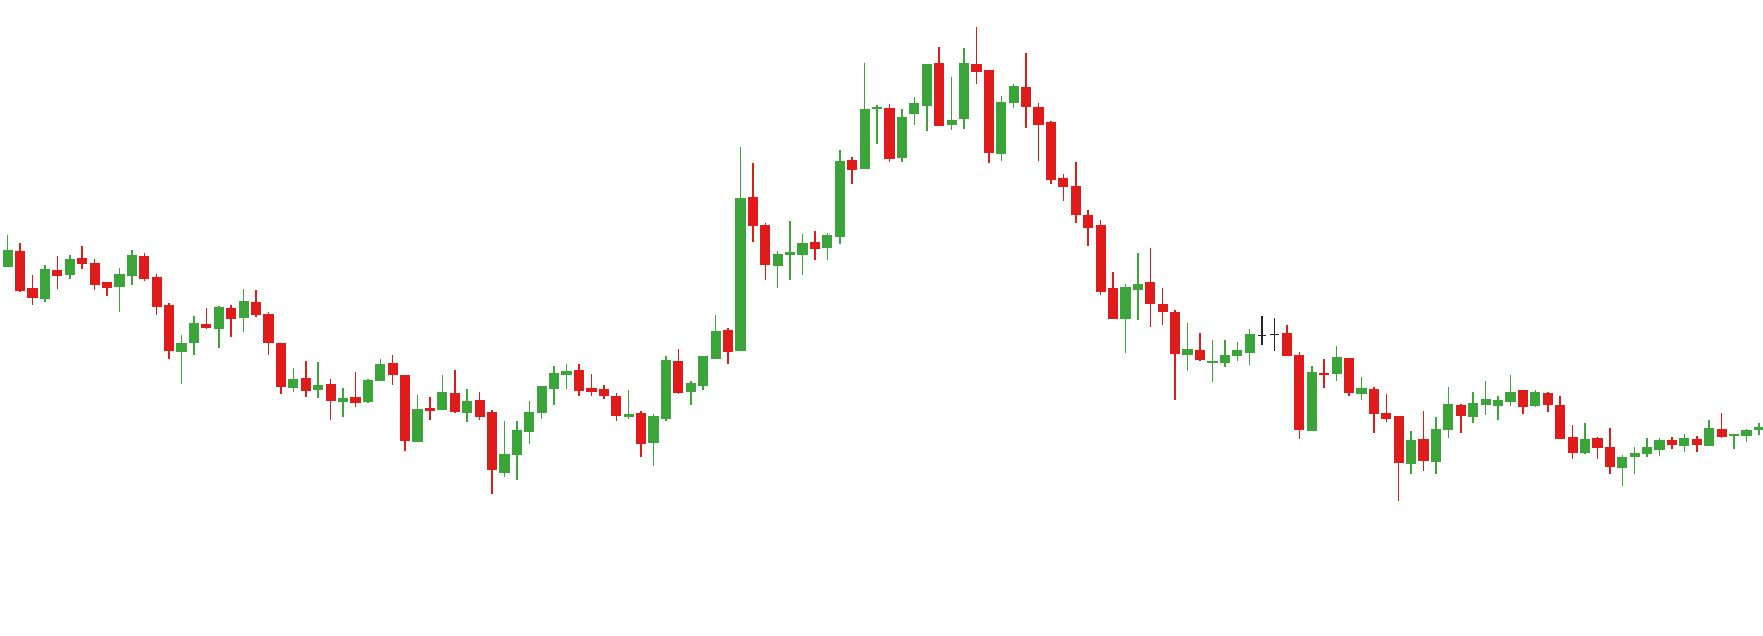buy: (398, 392, 522, 492)
sell: (856, 44, 949, 138)
